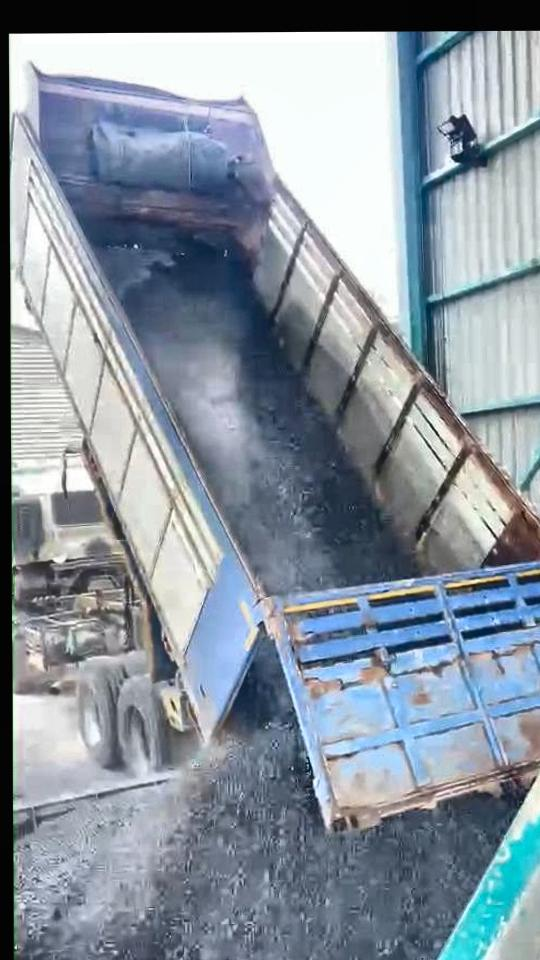gravel: (18, 644, 517, 960), (240, 298, 417, 589), (496, 863, 540, 960)
